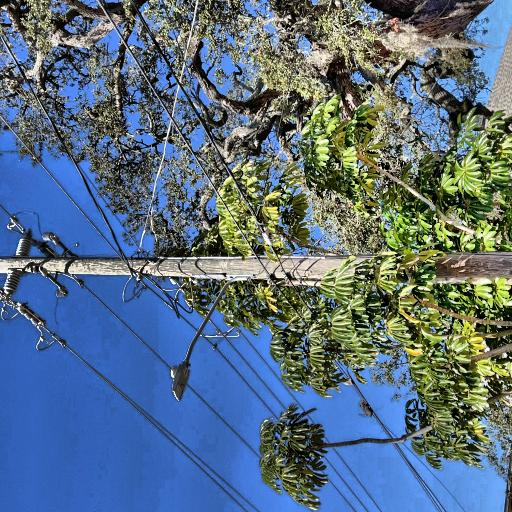pole: (96, 75, 145, 512)
street light: (0, 302, 113, 396)
